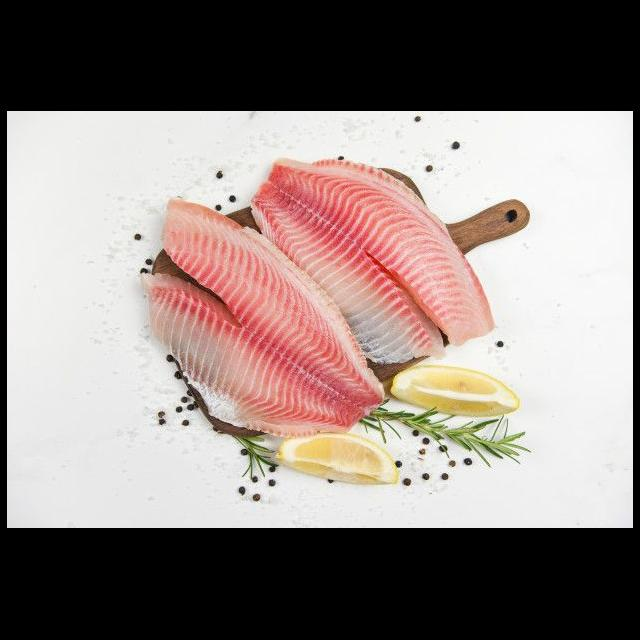fish: (127, 193, 390, 438)
